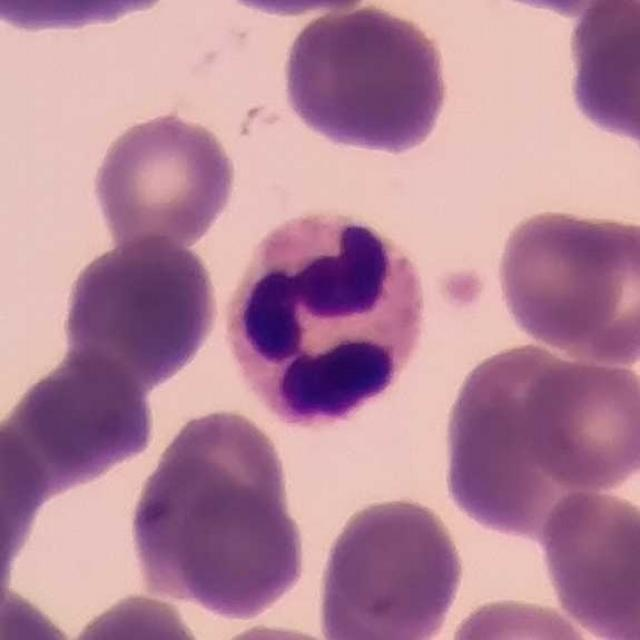Neutrophil: (216, 202, 435, 439)
RBC: (215, 202, 435, 436), (437, 338, 590, 526), (276, 1, 455, 156), (58, 230, 222, 386), (149, 471, 311, 622), (312, 492, 470, 640), (89, 108, 240, 252), (492, 203, 631, 355), (5, 348, 158, 486), (149, 404, 295, 535), (517, 353, 639, 493), (536, 484, 640, 638), (563, 0, 640, 150), (0, 415, 49, 592), (62, 589, 212, 640), (0, 0, 197, 38), (444, 593, 602, 640), (594, 510, 640, 640), (0, 582, 78, 640), (203, 0, 390, 19), (198, 619, 361, 640), (530, 0, 640, 18)
